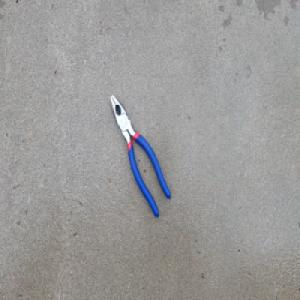Pliers: (109, 91, 172, 219)
